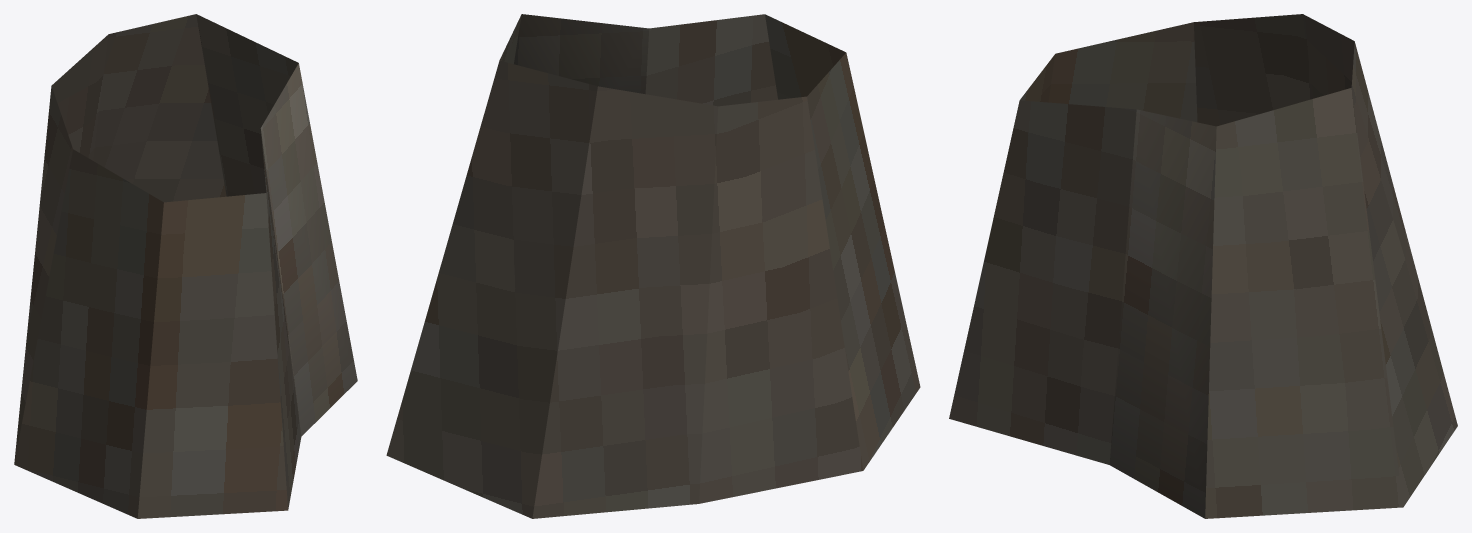
File: stump.glb
The picture shows the model from 3 angles, left to right: view 1: azimuth 30°, elevation 25°; view 2: azimuth 150°, elevation 25°; view 3: azimuth 270°, elevation 25°; orthographic projection. The views are drawn at different scales.
Parts seen in each view (by area): view 1: Plane.037; view 2: Plane.037; view 3: Plane.037.
Part boxes in pixels (x1,y1,x2,y2): Plane.037: [14, 14, 357, 518]; Plane.037: [386, 14, 920, 518]; Plane.037: [949, 14, 1457, 518].
Size of the model in its own units: 1.58 by 1.5 by 1.82.
Materials: 1 (1 with a texture image).
